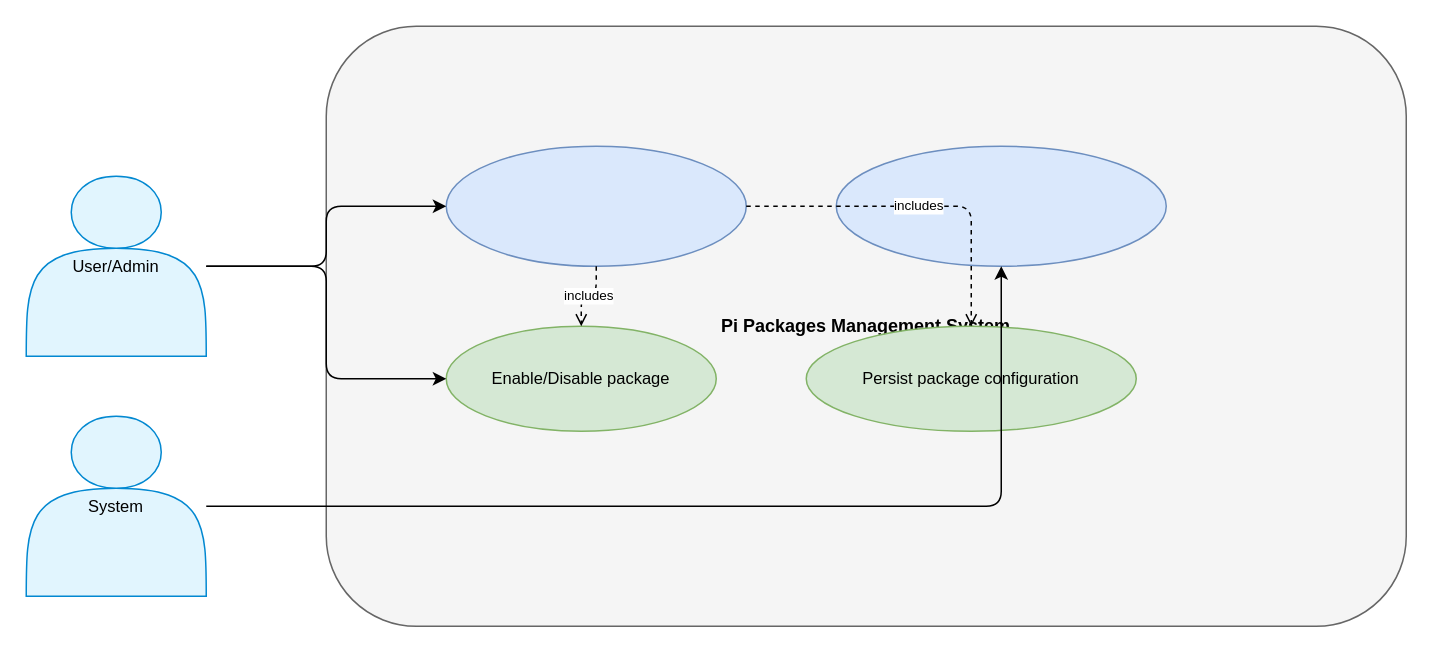
This 1433x653 diagram has some shape labels left out. Each missing label, with the box of its shape:
Configure Pi packages via Settings panel: (445, 145, 746, 266)
Pre-install 7 core Pi packages on setup: (835, 145, 1166, 266)
